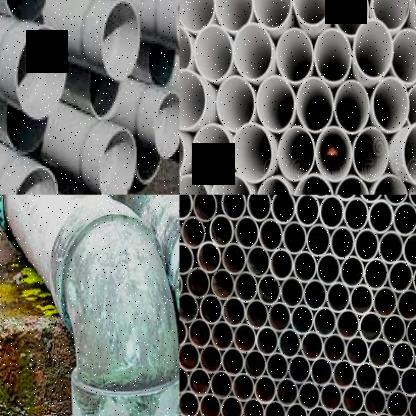pipe: (13, 22, 72, 122), (98, 0, 142, 84), (95, 127, 138, 195), (231, 122, 273, 184), (353, 18, 394, 80), (191, 123, 232, 182), (233, 22, 273, 82), (5, 102, 48, 156), (216, 75, 256, 132), (194, 24, 233, 82), (296, 76, 334, 134), (372, 76, 410, 134), (314, 27, 352, 84), (257, 75, 294, 133), (276, 28, 313, 84), (352, 127, 389, 182), (315, 127, 352, 182), (334, 80, 371, 134), (151, 89, 179, 160), (278, 127, 314, 182), (86, 69, 121, 125), (179, 67, 206, 130), (7, 164, 60, 195), (390, 27, 416, 84), (332, 0, 369, 38), (148, 43, 178, 88), (251, 0, 292, 31), (215, 0, 253, 33), (0, 0, 51, 24), (371, 0, 409, 31), (135, 144, 163, 186), (180, 0, 215, 33), (291, 0, 332, 27), (401, 120, 416, 186), (209, 173, 252, 195), (368, 198, 394, 234), (292, 174, 335, 195), (329, 225, 355, 259), (391, 200, 416, 235), (344, 197, 369, 231), (234, 215, 259, 249), (180, 216, 206, 248), (388, 260, 413, 293), (319, 195, 344, 228), (354, 228, 379, 261), (378, 230, 403, 263), (258, 218, 283, 251), (209, 214, 234, 247), (221, 243, 247, 274), (196, 242, 222, 273), (210, 268, 235, 300), (244, 298, 269, 330), (340, 255, 365, 287), (269, 248, 294, 280), (316, 253, 341, 285), (279, 276, 304, 308), (293, 250, 317, 283), (306, 223, 330, 256), (282, 221, 306, 254), (185, 268, 211, 298), (312, 306, 337, 337), (349, 284, 374, 315), (326, 281, 350, 313), (246, 245, 270, 277), (373, 286, 397, 318), (364, 258, 388, 290), (381, 314, 406, 344), (358, 312, 383, 342), (390, 341, 415, 371), (367, 338, 392, 368), (255, 325, 279, 356), (222, 296, 246, 327), (221, 346, 245, 377), (303, 279, 327, 310), (295, 195, 319, 226), (309, 356, 333, 387), (336, 308, 359, 340), (257, 273, 280, 305), (270, 195, 296, 223), (372, 175, 408, 195), (290, 304, 314, 334), (199, 294, 223, 324), (297, 380, 321, 410), (188, 318, 212, 348), (354, 361, 378, 391), (243, 349, 267, 379), (341, 384, 365, 414), (231, 372, 255, 402), (345, 335, 369, 365), (234, 271, 257, 302), (211, 320, 234, 351), (255, 176, 292, 195), (300, 331, 324, 360), (319, 382, 343, 411), (253, 375, 277, 404), (323, 333, 346, 363), (233, 323, 256, 353), (278, 328, 301, 358), (199, 344, 222, 374), (288, 354, 311, 384), (377, 364, 400, 394), (363, 386, 386, 416), (192, 195, 218, 221), (180, 22, 192, 78), (395, 288, 416, 320), (219, 195, 247, 219), (268, 302, 291, 331), (332, 359, 355, 388), (266, 352, 289, 381), (210, 370, 233, 399), (189, 367, 211, 397), (385, 389, 409, 416), (335, 176, 369, 195), (276, 377, 298, 406), (179, 174, 209, 195), (246, 195, 271, 220), (179, 342, 200, 370), (179, 293, 199, 322), (179, 389, 199, 416), (198, 392, 220, 416), (401, 231, 416, 266), (398, 366, 416, 395), (179, 243, 195, 273), (241, 396, 264, 416), (220, 395, 241, 416), (407, 82, 416, 127), (263, 399, 285, 416), (405, 316, 416, 347), (179, 195, 193, 219), (285, 402, 307, 416), (383, 195, 409, 205), (307, 405, 329, 416), (180, 317, 188, 347), (180, 365, 188, 394), (328, 407, 351, 416), (408, 391, 416, 416), (358, 195, 383, 202), (350, 410, 373, 416), (412, 262, 416, 295), (372, 412, 395, 416), (414, 344, 416, 373)
